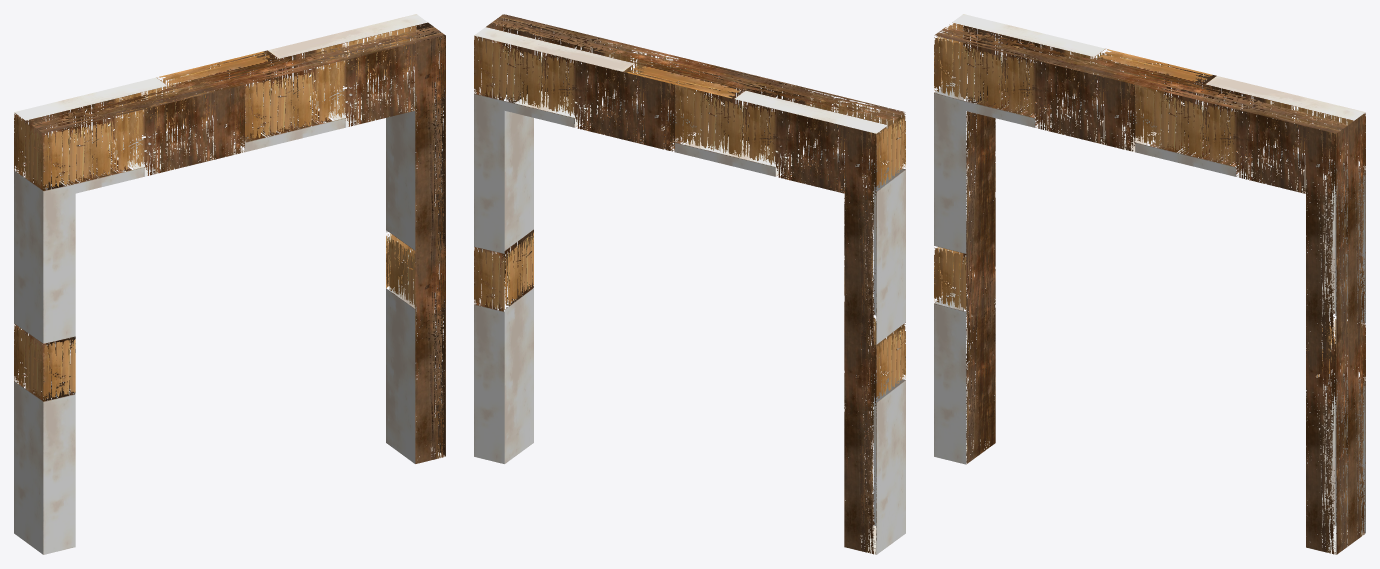
The picture shows the model from 3 angles, left to right: view 1: azimuth 30°, elevation 25°; view 2: azimuth 150°, elevation 25°; view 3: azimuth 330°, elevation 25°; orthographic projection.
Visible parts, largest first — view 1: SM_BB_T4_Wall_Doorframe_Double_Curved_LOD0; view 2: SM_BB_T4_Wall_Doorframe_Double_Curved_LOD0; view 3: SM_BB_T4_Wall_Doorframe_Double_Curved_LOD0.
Part boxes in pixels (bbox=[...]): SM_BB_T4_Wall_Doorframe_Double_Curved_LOD0: bbox=[14, 14, 445, 554]; SM_BB_T4_Wall_Doorframe_Double_Curved_LOD0: bbox=[474, 14, 905, 554]; SM_BB_T4_Wall_Doorframe_Double_Curved_LOD0: bbox=[934, 14, 1365, 554].
Size of the model in its own units: 3 by 3 by 0.3805.
